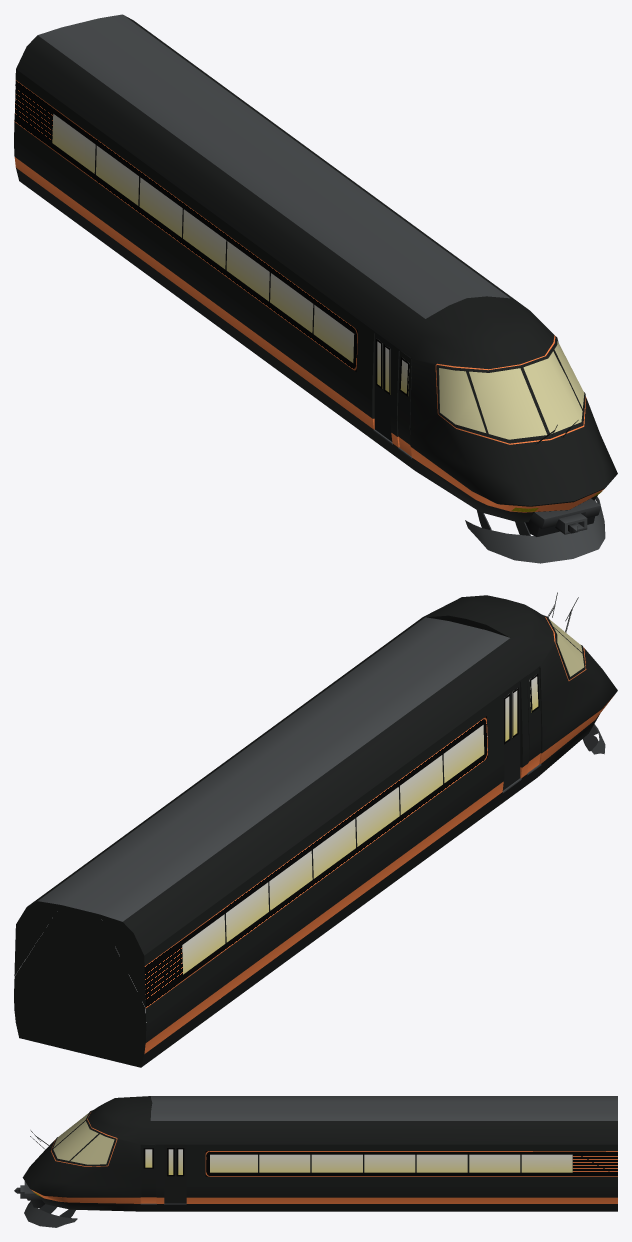
3 renders of one model, top to bottom at view 1: azimuth 30°, elevation 25°; view 2: azimuth 150°, elevation 25°; view 3: azimuth 270°, elevation 25°, orthographic. The views are drawn at different scales.
Visible parts, largest first — view 1: obj2; view 2: obj2; view 3: obj2.
Boxes of the visible parts, x1,y1,x2,y2 form: obj2: (14,14,617,563); obj2: (14,595,617,1067); obj2: (14,1096,617,1227).
Size of the model in its own units: 6.49 by 8.57 by 42.61.
17 materials, 16 textured.
